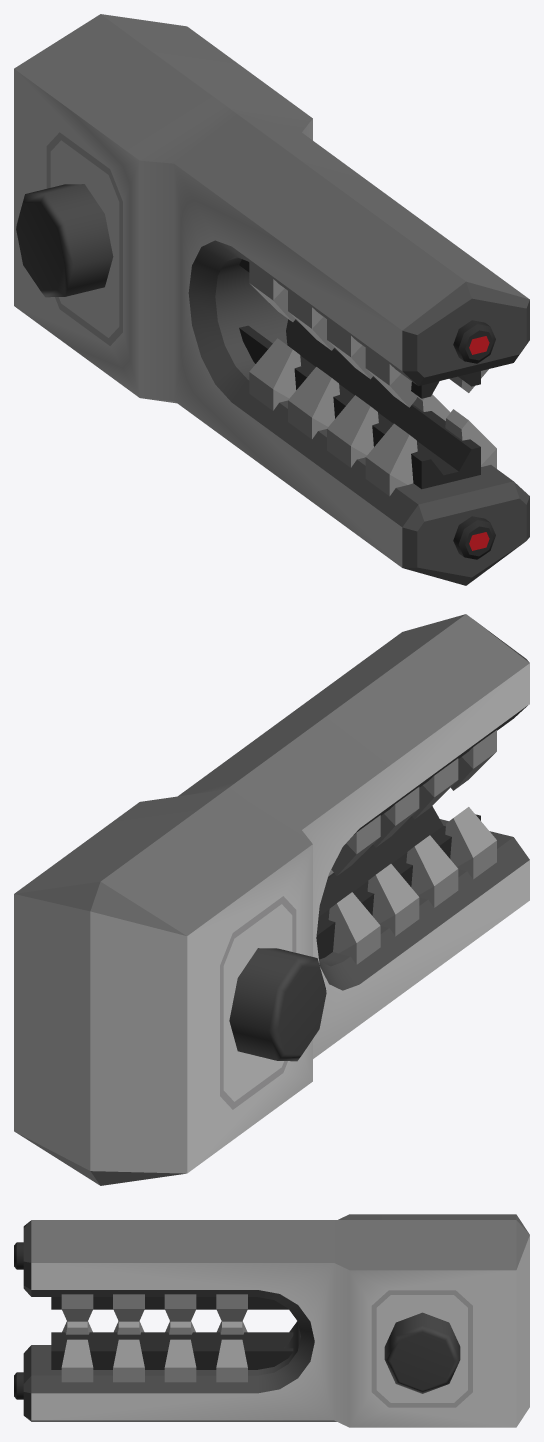
Rendered from Turret_012_Part_03.fbx.
3 views of the same model, one above another, from view 1: azimuth 30°, elevation 25°; view 2: azimuth 150°, elevation 25°; view 3: azimuth 270°, elevation 25° (orthographic). The views are drawn at different scales.
Visible parts, largest first — view 1: Turret_012_Part_03; view 2: Turret_012_Part_03; view 3: Turret_012_Part_03.
Boxes of the visible parts, x1,y1,x2,y2 form: Turret_012_Part_03: (14, 14, 529, 585); Turret_012_Part_03: (14, 614, 529, 1185); Turret_012_Part_03: (14, 1214, 529, 1427).
Bounding box in the file's own units: 63.5 × 163 × 70.39.
